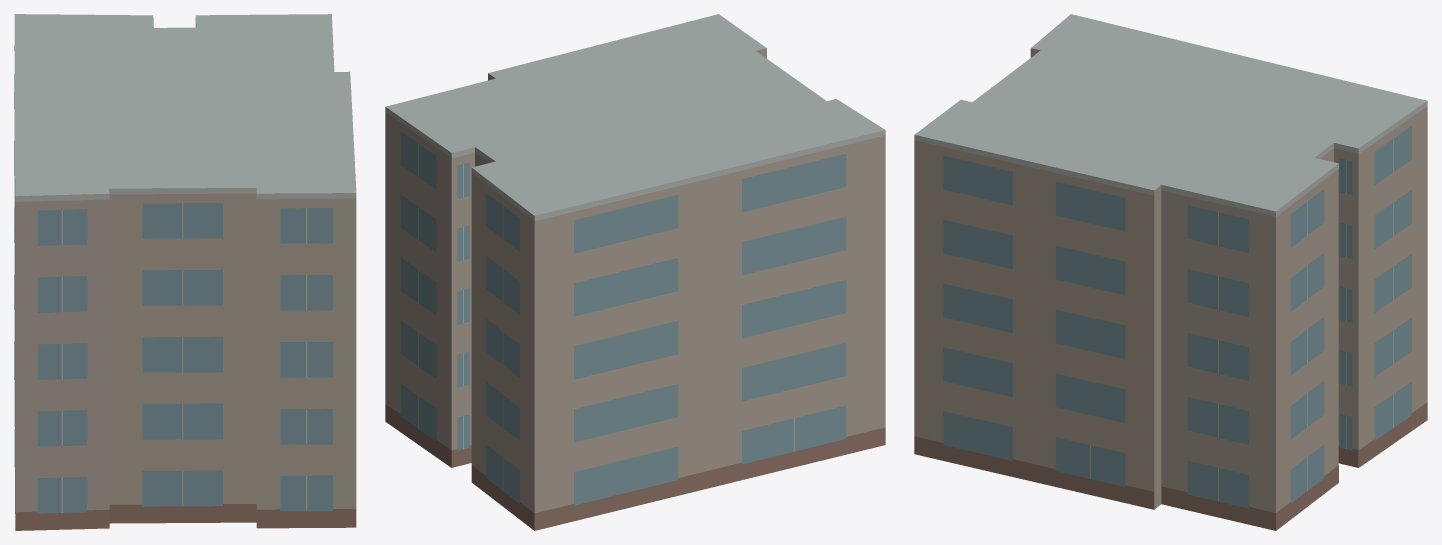
The model's file is survey-upis-32941056.glb.
3 views of the same model, side by side, from view 1: azimuth 30°, elevation 25°; view 2: azimuth 150°, elevation 25°; view 3: azimuth 270°, elevation 25° (orthographic). The views are drawn at different scales.
Parts seen in each view (by area): view 1: survey-upis-32941056.tmp; view 2: survey-upis-32941056.tmp; view 3: survey-upis-32941056.tmp.
Part boxes in pixels (x1=…): survey-upis-32941056.tmp: x1=14, y1=14, x2=356, y2=530; survey-upis-32941056.tmp: x1=385, y1=14, x2=885, y2=530; survey-upis-32941056.tmp: x1=914, y1=14, x2=1427, y2=530.
Bounding box in the file's own units: 18.97 × 14.3 × 20.83.
